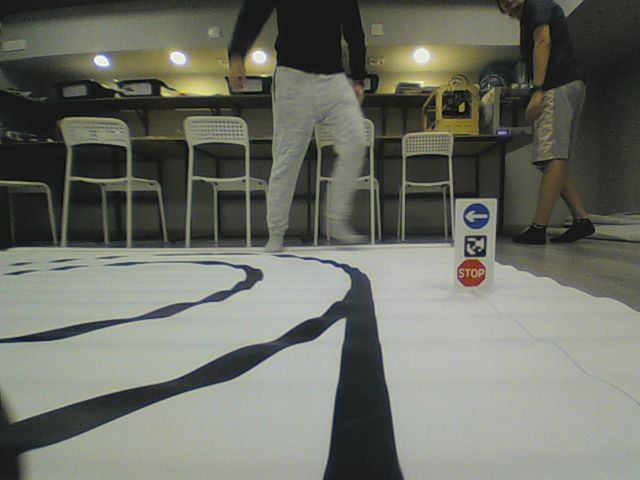Stop: (455, 258, 488, 288)
